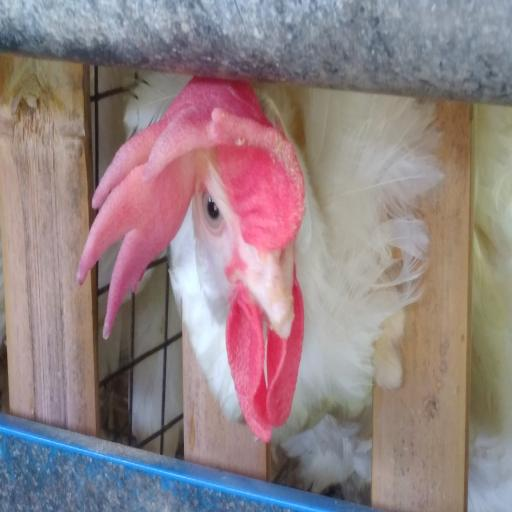disease: (202, 93, 314, 274)
